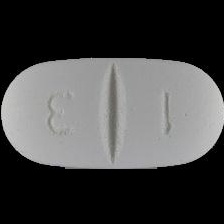61919-843: (0, 0, 224, 224)
